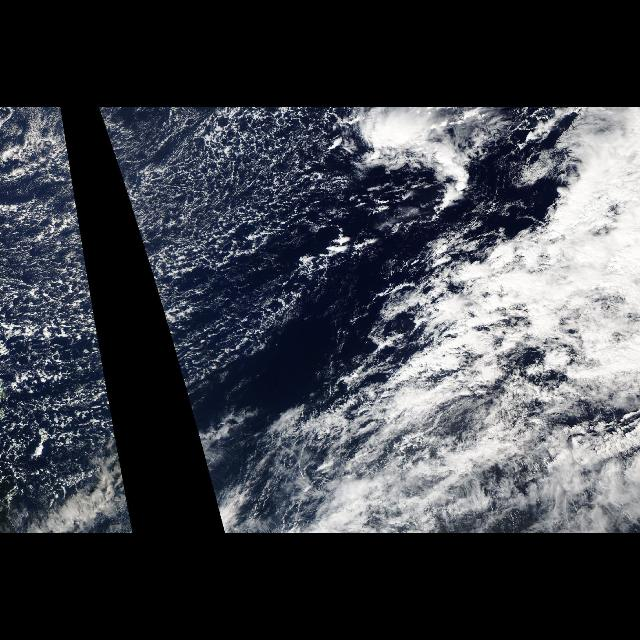Gravel: (102, 109, 336, 467), (4, 120, 124, 488)
